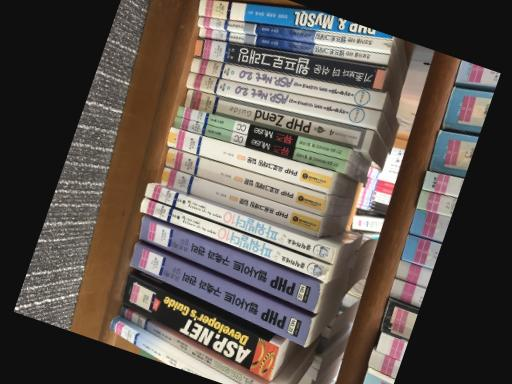book-spine: (129, 241, 310, 347), (137, 216, 320, 312), (120, 273, 278, 381), (143, 183, 334, 263), (139, 198, 329, 277), (183, 89, 372, 151), (118, 304, 262, 384), (158, 167, 321, 237), (165, 127, 331, 193), (164, 147, 325, 215), (185, 72, 379, 128), (192, 38, 385, 91), (189, 58, 385, 110), (171, 116, 344, 172), (175, 106, 348, 160), (198, 0, 393, 40), (198, 27, 388, 65), (197, 16, 391, 49), (108, 319, 212, 380)
